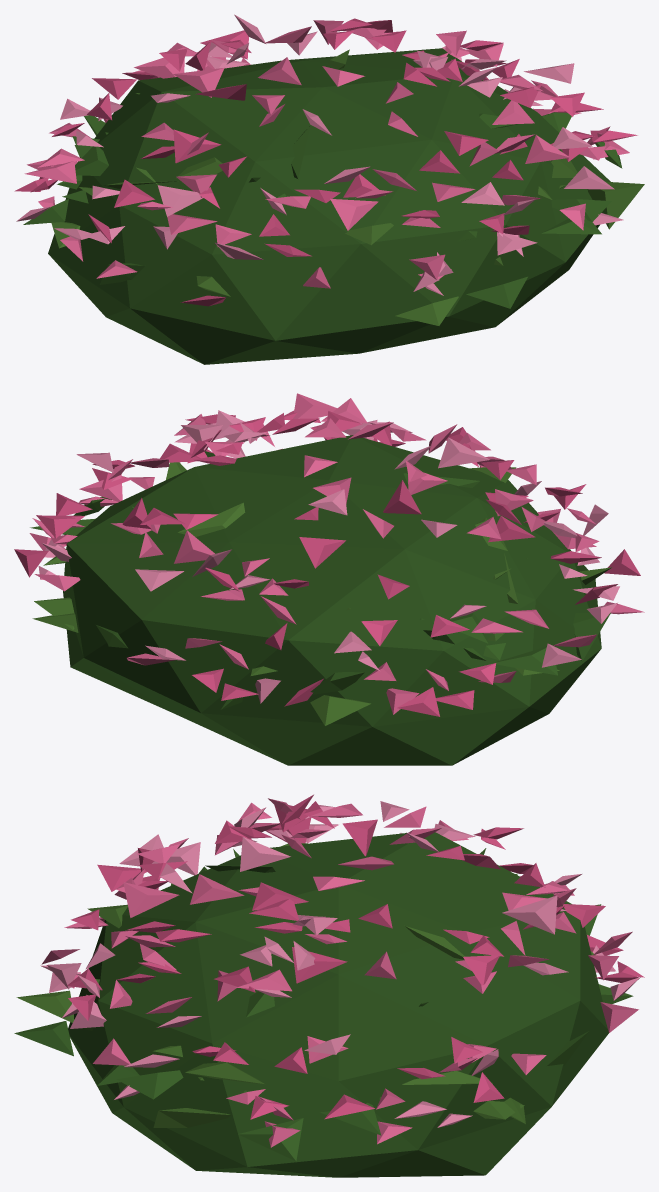
Rendered from azalea_pink.glb.
3 renders of one model, top to bottom at view 1: azimuth 30°, elevation 25°; view 2: azimuth 150°, elevation 25°; view 3: azimuth 270°, elevation 25°, orthographic. The views are drawn at different scales.
Parts seen in each view (by area): view 1: azalea_pink; view 2: azalea_pink; view 3: azalea_pink.
Part boxes in pixels (left/top/right/bottom): azalea_pink: left=14, top=14, right=644, bottom=364; azalea_pink: left=14, top=393, right=644, bottom=765; azalea_pink: left=14, top=794, right=644, bottom=1177.
Size of the model in its own units: 1.78 by 0.6388 by 1.63.
